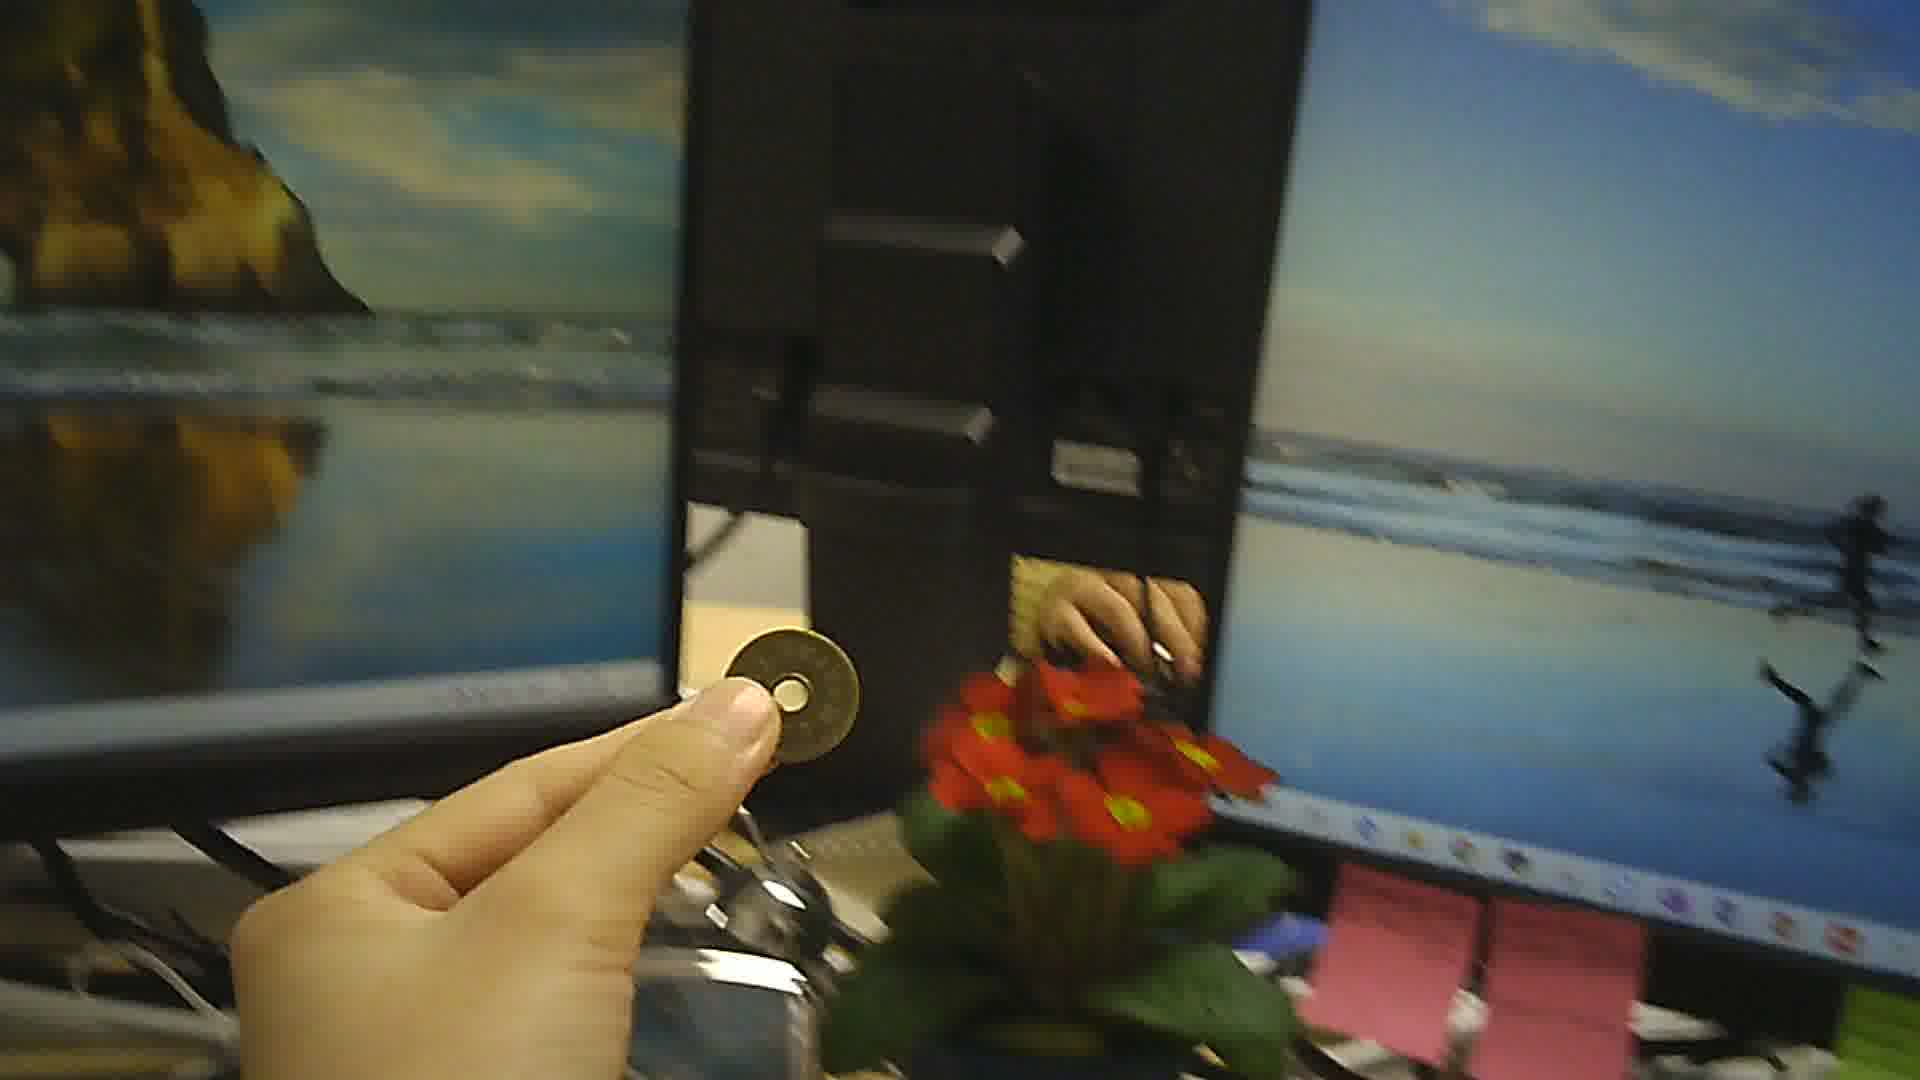5 Yen: (716, 624, 862, 770)
